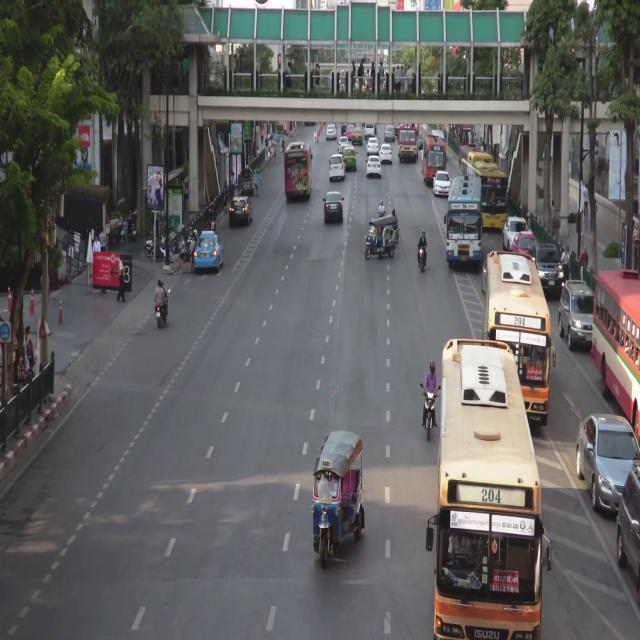bus: (435, 339, 540, 640), (485, 252, 548, 430), (592, 266, 640, 438), (462, 156, 507, 230), (446, 177, 481, 268), (285, 142, 311, 199), (423, 136, 446, 186), (459, 144, 483, 183), (398, 125, 418, 160)
car: (311, 435, 366, 565), (577, 413, 640, 512), (619, 462, 640, 587), (560, 280, 595, 349), (533, 244, 565, 293), (366, 219, 399, 259), (504, 217, 533, 253), (230, 197, 252, 226), (324, 192, 343, 221), (434, 171, 452, 196), (330, 154, 346, 180), (241, 169, 254, 196), (367, 156, 381, 179), (380, 144, 392, 163), (368, 138, 379, 155), (433, 129, 444, 143), (364, 124, 375, 138), (326, 125, 337, 139), (385, 126, 395, 141), (418, 132, 424, 150), (339, 137, 349, 146), (340, 144, 347, 154), (394, 125, 399, 134)
pedestrian: (118, 256, 126, 303), (25, 326, 34, 361), (173, 237, 179, 276), (561, 247, 570, 272), (581, 243, 589, 271), (179, 234, 184, 275), (99, 227, 106, 251), (230, 173, 236, 199), (584, 185, 589, 216), (255, 168, 260, 197), (92, 237, 101, 252), (224, 179, 228, 210), (634, 223, 639, 241), (260, 127, 264, 144), (281, 134, 285, 150), (274, 143, 277, 161), (269, 136, 272, 154), (265, 139, 268, 156), (257, 147, 260, 155)
taxi: (194, 232, 224, 271), (512, 234, 539, 262), (344, 147, 357, 170), (353, 127, 363, 145), (347, 124, 356, 140)
